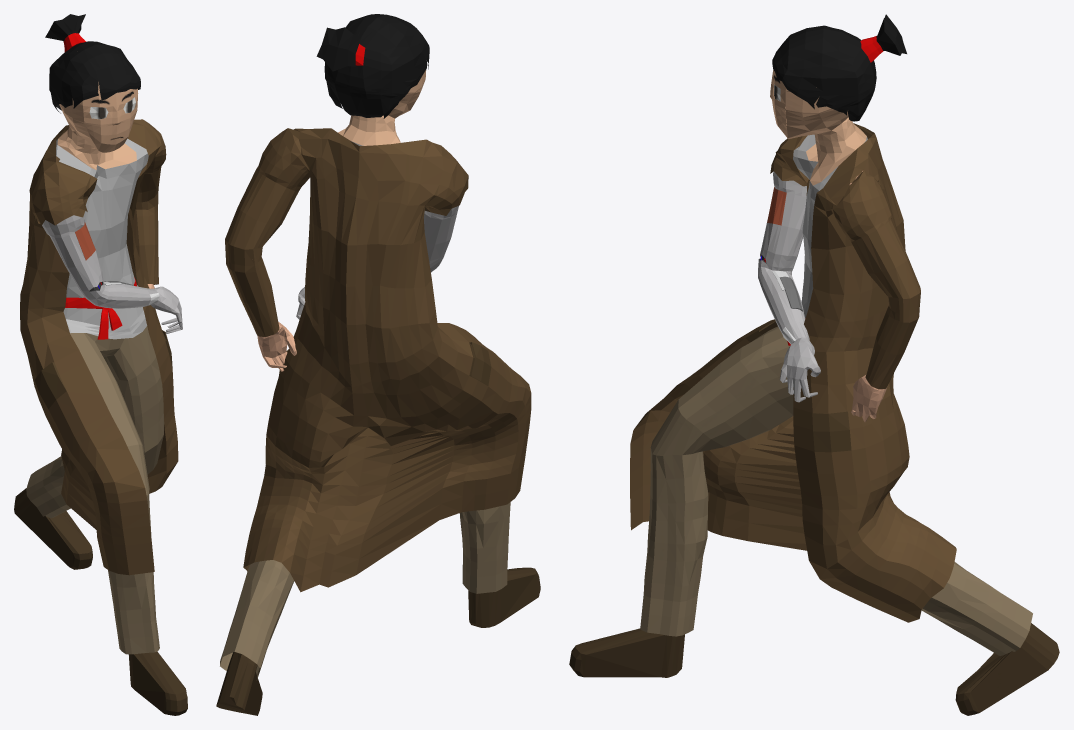
Rendered from One_RB_000022.obj.
3 views of the same model, side by side, from view 1: azimuth 30°, elevation 25°; view 2: azimuth 150°, elevation 25°; view 3: azimuth 270°, elevation 25° (orthographic). The views are drawn at different scales.
Visible parts, largest first — view 1: Hair_Cube.004; view 2: Hair_Cube.004; view 3: Hair_Cube.004.
Boxes of the visible parts, x1,y1,x2,y2 form: Hair_Cube.004: (14,14,187,715); Hair_Cube.004: (216,14,540,715); Hair_Cube.004: (569,14,1059,715).
Size of the model in its own units: 1.09 by 3.59 by 2.38.
